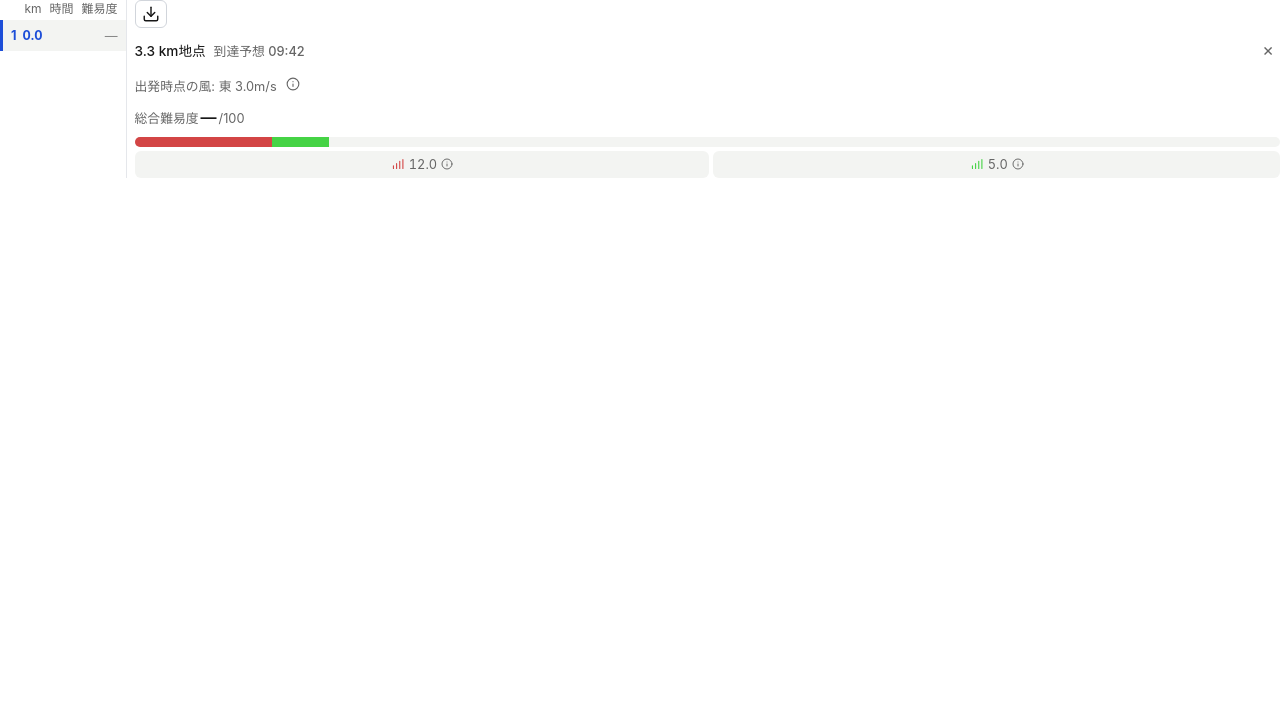
Test: 選んだ候補の中身 › 区間の内訳のチップから開く詳細は、候補全体ではなくその区間の軸別難易度を出す
The image size is (1280, 720).
Click the button named "軸Aの詳細を表示". click: (422,164)
box: [134,151,709,178]
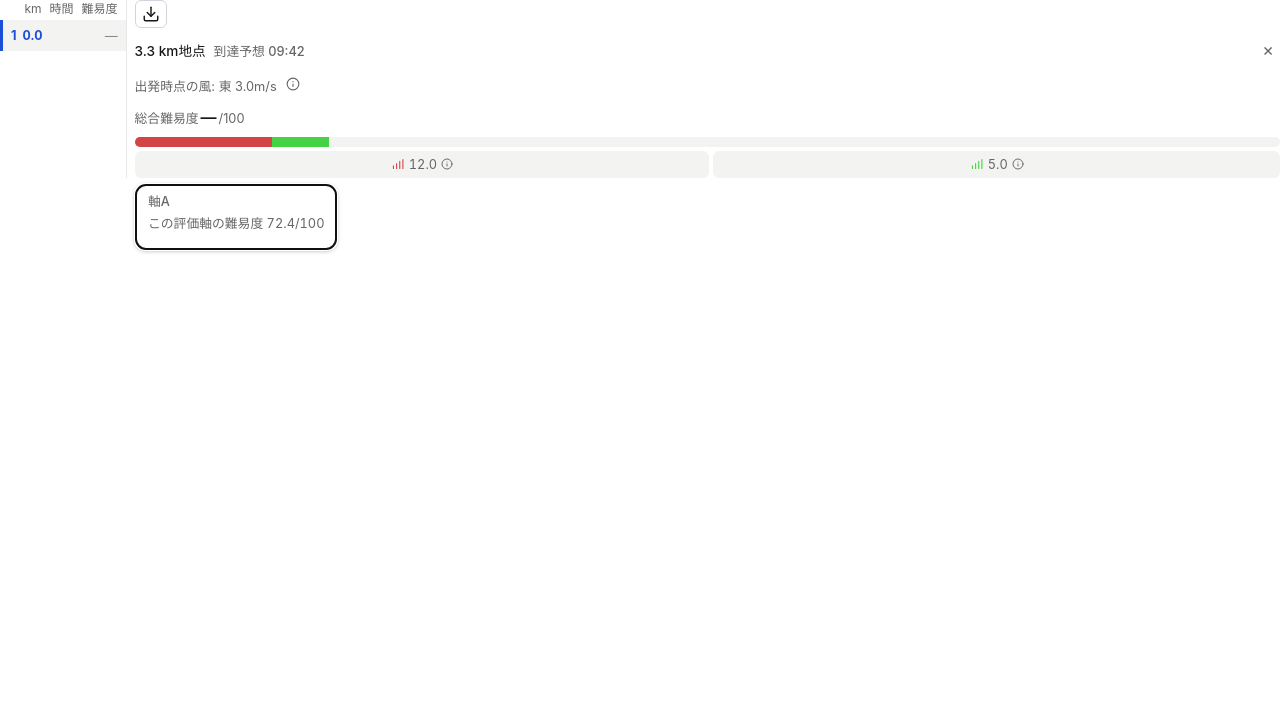
Expected: the dialog reads "軸A この評価軸の難易度 72.4/100", [135,184,338,250]
Click the button named "軸Aの詳細を隠す". click: (422,164)
box: [134,151,709,178]
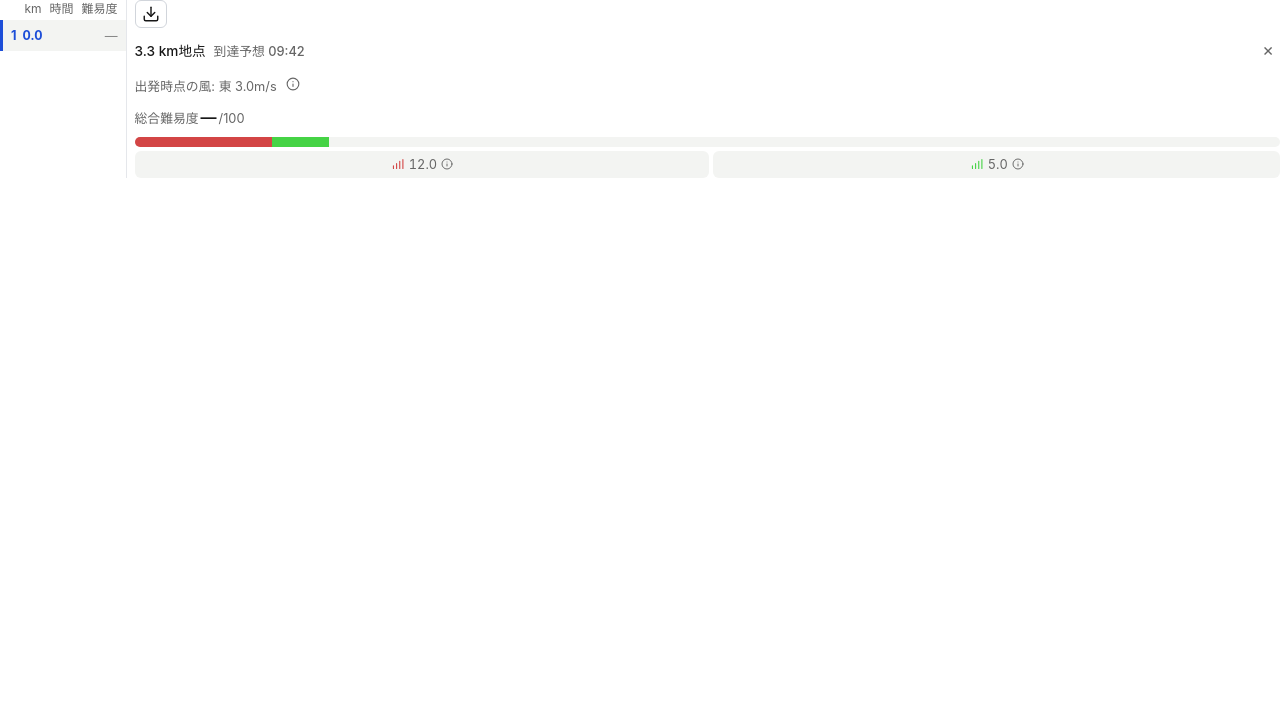
Click the button named "軸Bの詳細を表示". click: (997,164)
box: [713,151,1279,178]
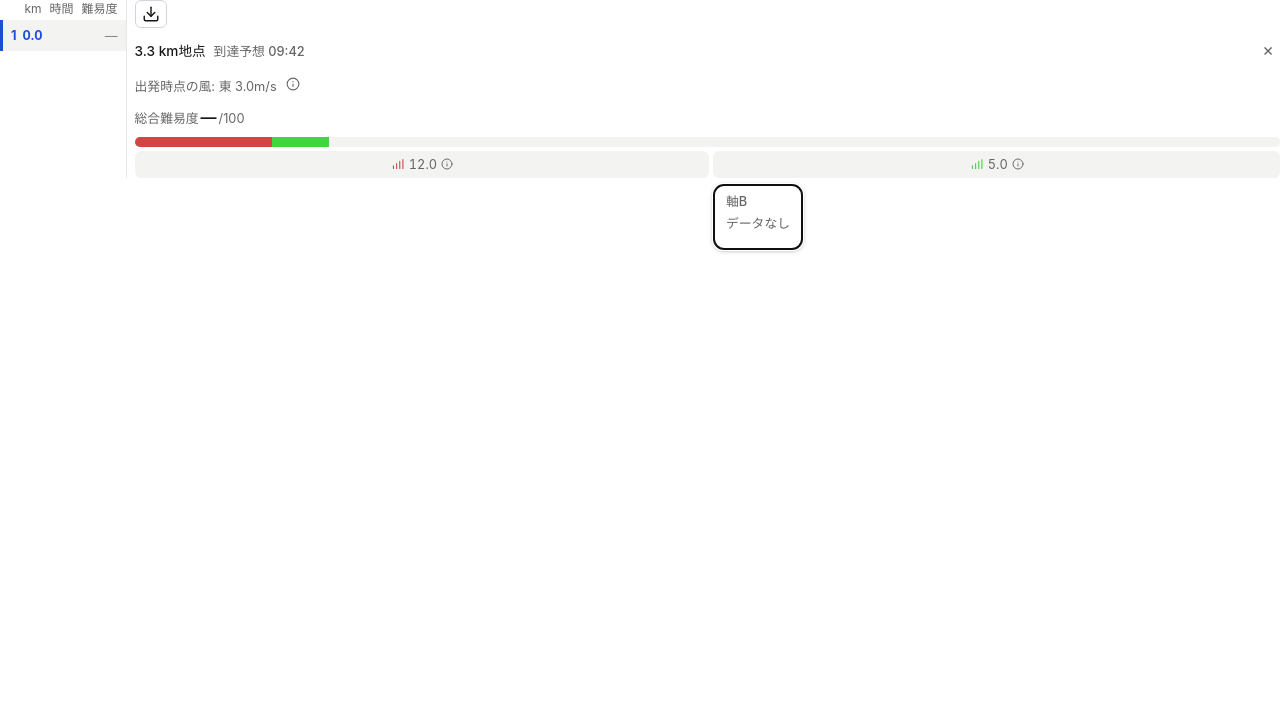
Expected: the dialog reads "軸B データなし", [713,184,803,250]
